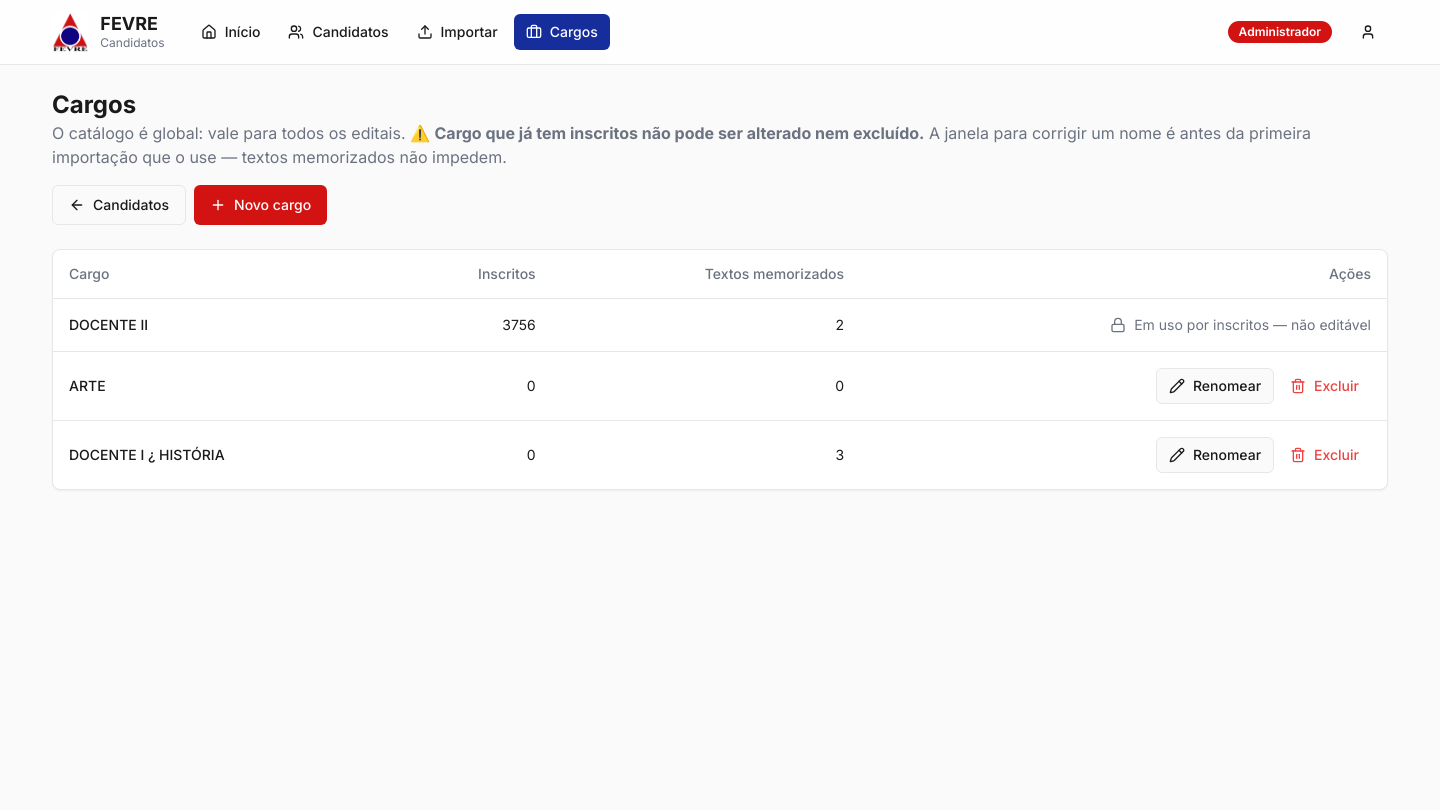
Scenario: Cargos (interação) › exclusão › ⭐ o diálogo AVISA que os apelidos vão junto — eles somem por CASCADE
Expected: the text "DOCENTE I ¿ HISTÓRIA" is shown, [53,420,390,488]
Click the button with aria-label "Excluir DOCENTE I ¿ HISTÓRIA" at (1325, 454), box [1278,436,1371,472]
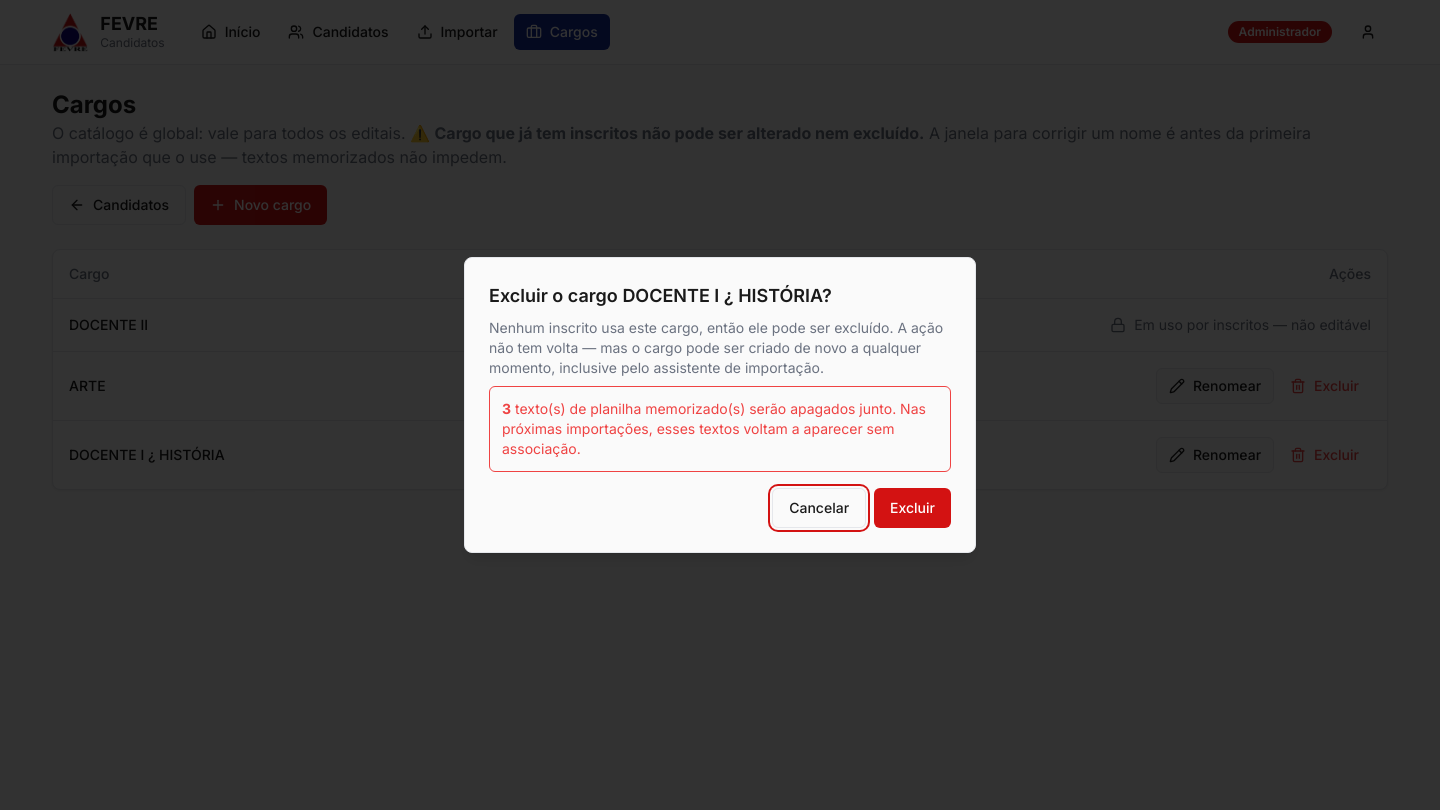
Now the text "sem associação" is shown, box [502,400,926,457]
Now the text "3" is shown, box [502,400,511,417]
